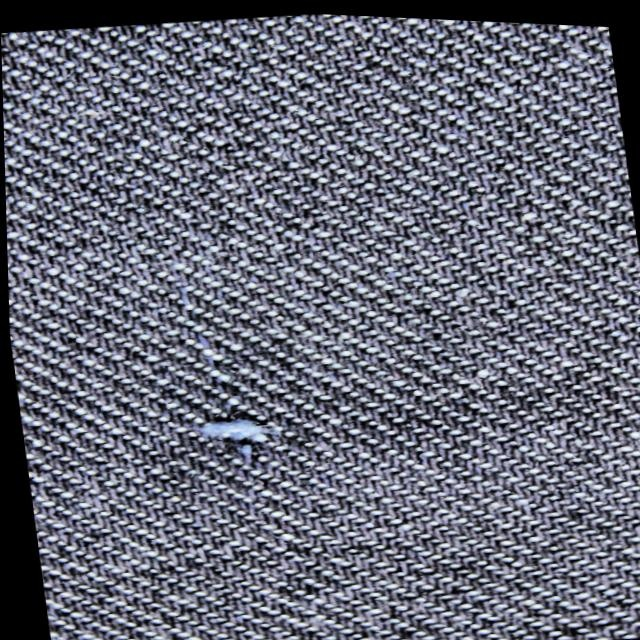Hole: (139, 378, 327, 488)
